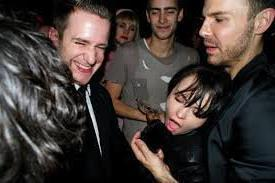Drunk: (199, 0, 250, 65), (67, 10, 104, 82), (168, 80, 210, 134), (150, 0, 177, 38)
